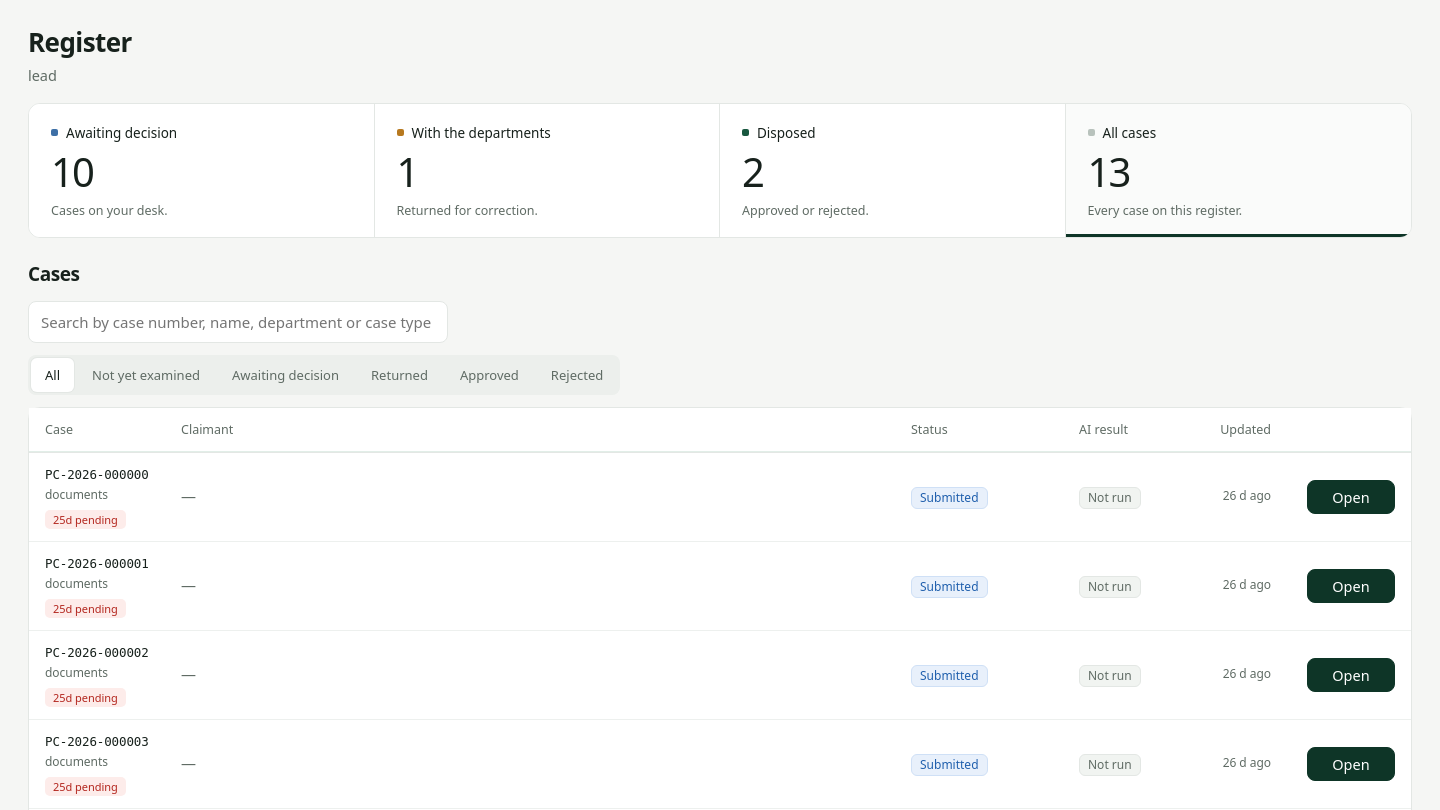
the dashboard counts the whole desk in one tile (26 Oct 2026) › pressing it shows the whole desk
Click the tab "Awaiting decision 10 Cases on your desk.": click(122, 133) [29,104,374,237]
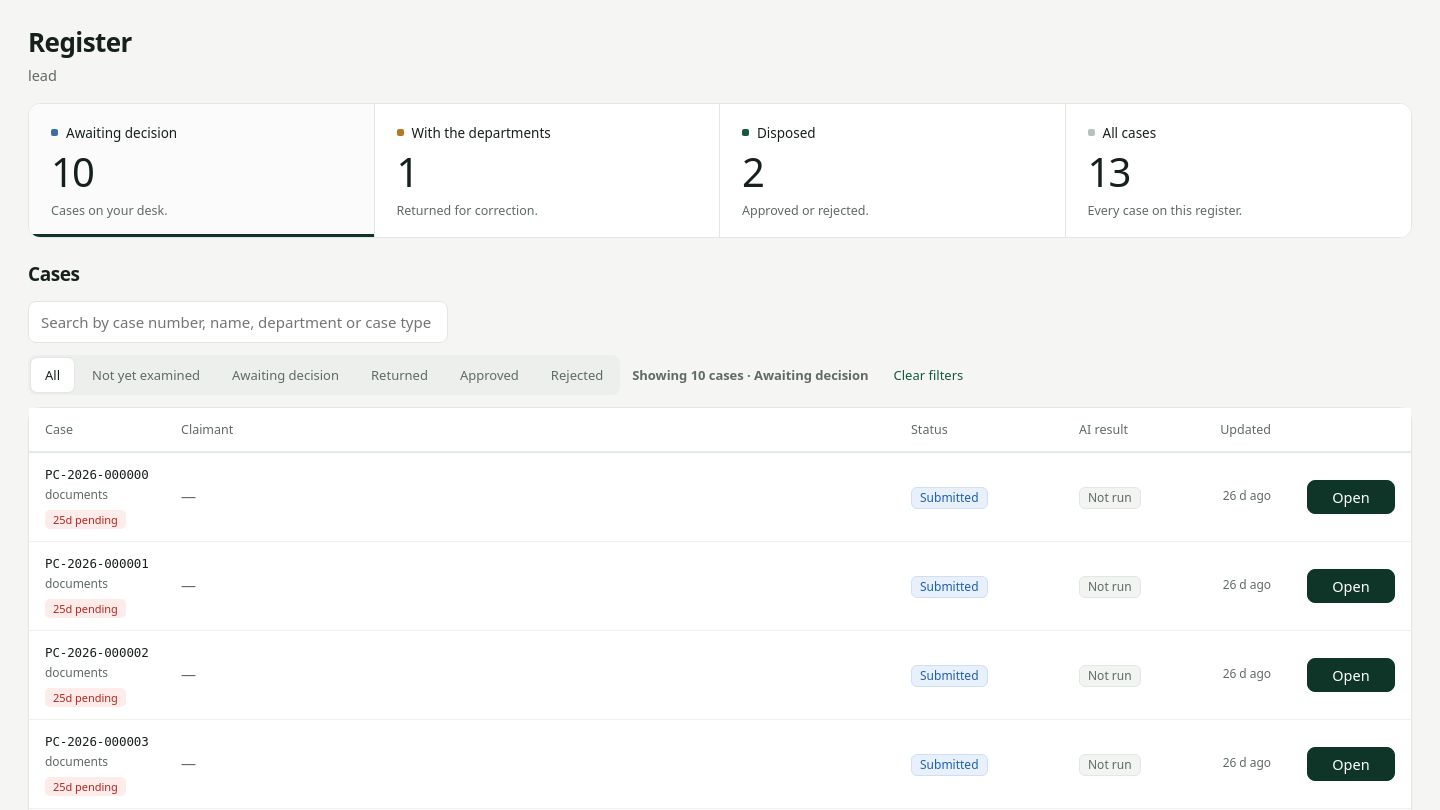
Now the message reads "Showing 10 cases · Awaiting decision", box [632,365,868,385]
